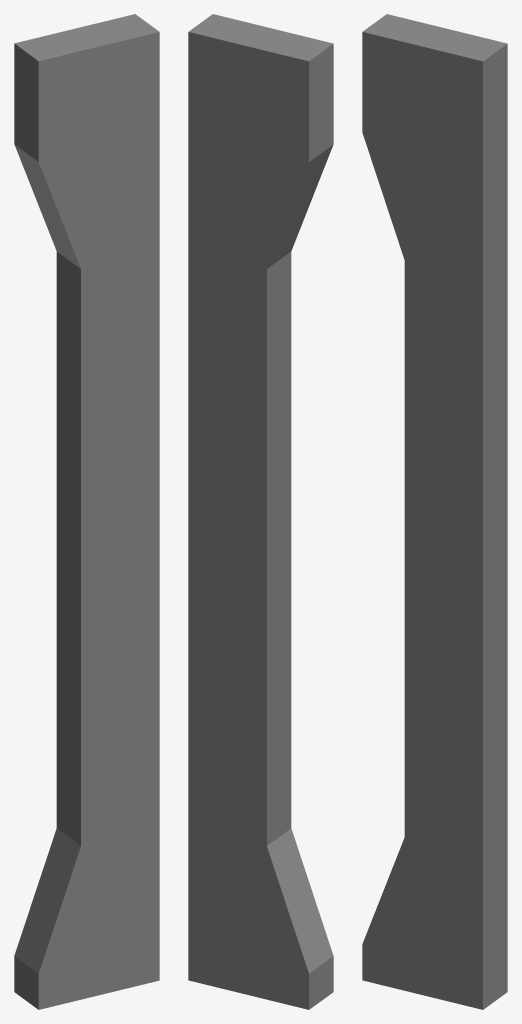
The model's file is 1st hallway pillar.fbx.
The picture shows the model from 3 angles, left to right: view 1: azimuth 30°, elevation 25°; view 2: azimuth 150°, elevation 25°; view 3: azimuth 330°, elevation 25°; orthographic projection.
Parts seen in each view (by area): view 1: Cube.045; view 2: Cube.045; view 3: Cube.045.
Part boxes in pixels (x1=…): Cube.045: x1=14, y1=14, x2=159, y2=1009; Cube.045: x1=188, y1=14, x2=333, y2=1009; Cube.045: x1=362, y1=14, x2=507, y2=1009.
Bounding box in the file's own units: 200 × 1500 × 70.41.
